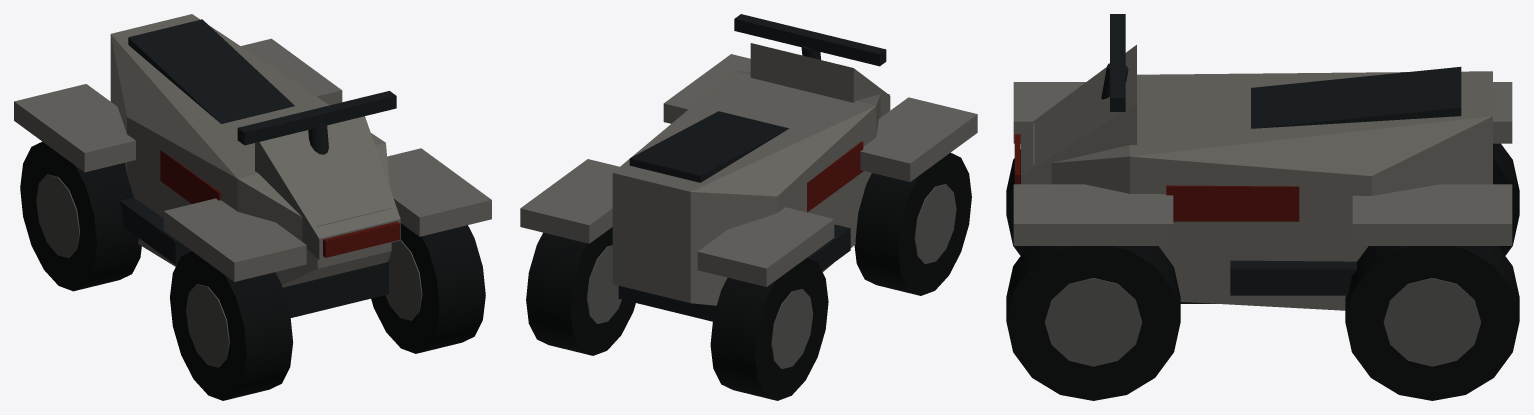
The picture shows the model from 3 angles, left to right: view 1: azimuth 30°, elevation 25°; view 2: azimuth 150°, elevation 25°; view 3: azimuth 270°, elevation 25°; orthographic projection. The views are drawn at different scales.
Parts seen in each view (by area): view 1: atv-fleet-armor, atv-fleet-machine, wheel--1-0.7-fleet-rubber, wheel--1--0.7-fleet-rubber, wheel-1-0.7-fleet-rubber, steering-fleet-machine, atv-fleet-red, wheel--1--0.7-fleet-edge, wheel--1-0.7-fleet-edge, wheel-1-0.7-fleet-edge; view 2: atv-fleet-armor, wheel--1--0.7-fleet-rubber, wheel--1-0.7-fleet-rubber, wheel-1--0.7-fleet-rubber, atv-fleet-machine, steering-fleet-machine, wheel--1-0.7-fleet-edge, wheel--1--0.7-fleet-edge, wheel-1--0.7-fleet-edge, atv-fleet-red; view 3: atv-fleet-armor, wheel-1-0.7-fleet-rubber, wheel-1--0.7-fleet-rubber, atv-fleet-machine, wheel-1--0.7-fleet-edge, wheel-1-0.7-fleet-edge, atv-fleet-red, steering-fleet-machine, wheel--1--0.7-fleet-rubber, wheel--1-0.7-fleet-rubber.
Boxes of the visible parts, box(x1,y1,x2,y2) form: atv-fleet-armor: box(14, 14, 491, 287); atv-fleet-machine: box(120, 19, 388, 317); wheel--1-0.7-fleet-rubber: box(170, 251, 293, 400); wheel--1--0.7-fleet-rubber: box(20, 141, 141, 291); wheel-1-0.7-fleet-rubber: box(371, 223, 485, 353); steering-fleet-machine: box(237, 91, 396, 154); atv-fleet-red: box(160, 150, 399, 257); wheel--1--0.7-fleet-edge: box(36, 174, 79, 257); wheel--1-0.7-fleet-edge: box(186, 284, 229, 367); wheel-1-0.7-fleet-edge: box(385, 240, 422, 320); atv-fleet-armor: box(520, 43, 977, 305); wheel--1--0.7-fleet-rubber: box(710, 257, 828, 400); wheel--1-0.7-fleet-rubber: box(854, 152, 971, 295); wheel-1--0.7-fleet-rubber: box(526, 227, 635, 355); atv-fleet-machine: box(618, 111, 850, 321); steering-fleet-machine: box(734, 14, 886, 66); wheel--1-0.7-fleet-edge: box(914, 184, 956, 263); wheel--1--0.7-fleet-edge: box(771, 289, 813, 368); wheel-1--0.7-fleet-edge: box(586, 245, 621, 323); atv-fleet-red: box(807, 94, 889, 212); atv-fleet-armor: box(1013, 45, 1512, 310); wheel-1-0.7-fleet-rubber: box(1006, 246, 1180, 400); wheel-1--0.7-fleet-rubber: box(1345, 246, 1519, 400); atv-fleet-machine: box(1180, 66, 1461, 303); wheel-1--0.7-fleet-edge: box(1383, 278, 1481, 366); wheel-1-0.7-fleet-edge: box(1044, 278, 1142, 366); atv-fleet-red: box(1014, 134, 1299, 221); steering-fleet-machine: box(1101, 14, 1128, 111); wheel--1--0.7-fleet-rubber: box(1493, 143, 1519, 255); wheel--1-0.7-fleet-rubber: box(1006, 149, 1027, 255).
Size of the model in its own units: 7.59 by 6.95 by 11.58.
